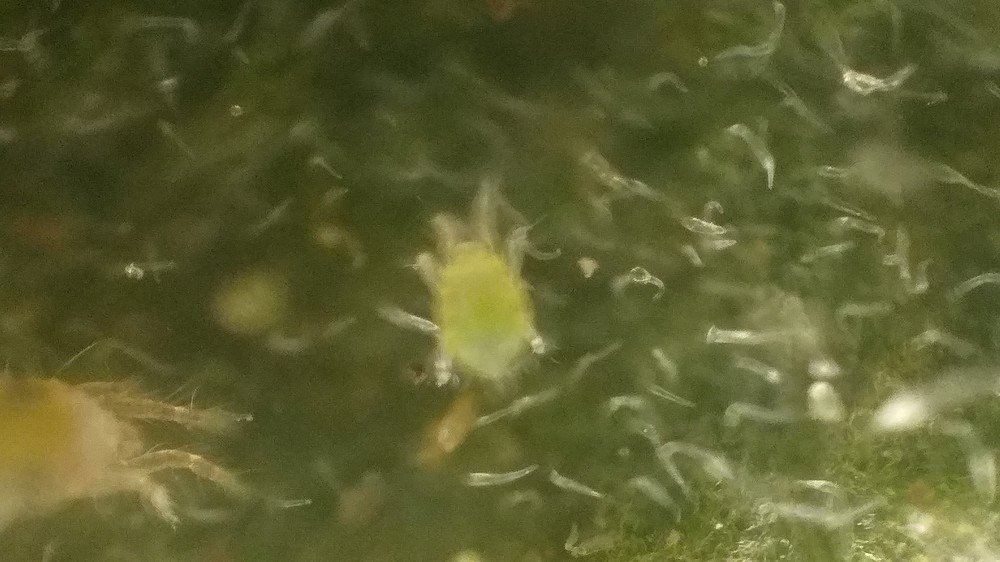Aracnido Rojo: (4, 321, 296, 548), (361, 171, 594, 427)
